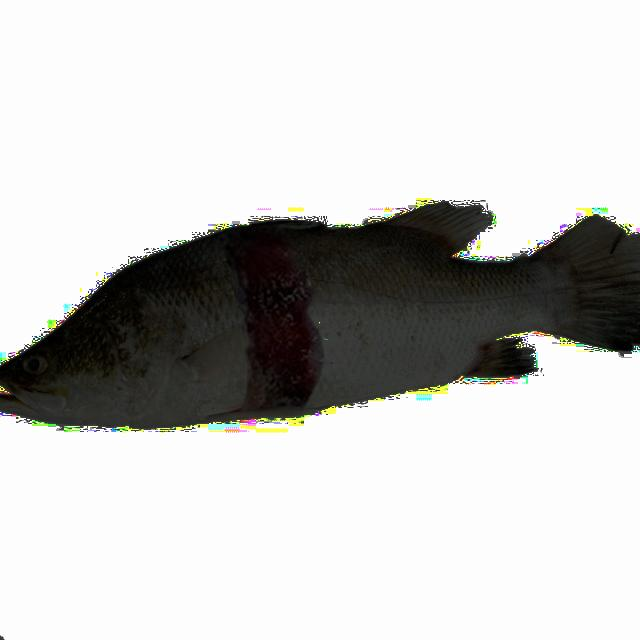Columnaris Disease: (0, 203, 639, 425)
